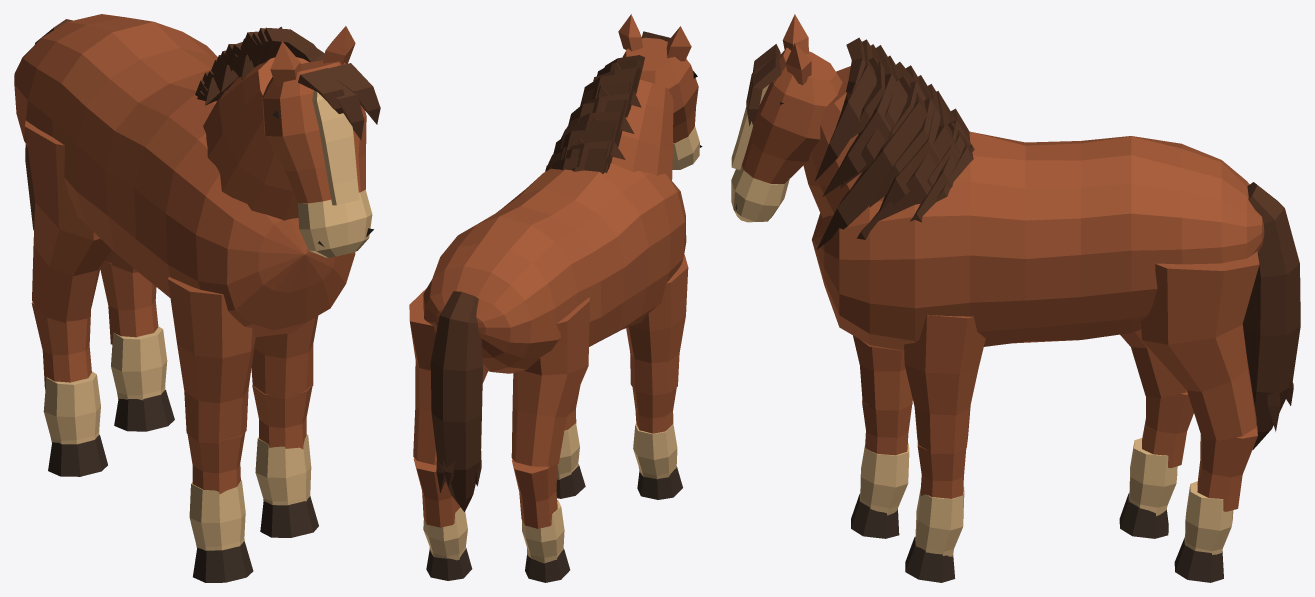
Rendered from horse-idle.glb.
3 renders of one model, left to right at view 1: azimuth 30°, elevation 25°; view 2: azimuth 150°, elevation 25°; view 3: azimuth 270°, elevation 25°, orthographic. The views are drawn at different scales.
Visible parts, largest first — view 1: body, leg_fr_upper, leg_hr_upper, neck, head, leg_fl_upper, mane, muzzle, leg_hr_sock, leg_hl_sock, leg_hl_lower, leg_fr_sock (+13 smaller); view 2: body, tail, leg_hr_upper, mane, leg_fr_upper, neck, head, leg_hl_upper, leg_hr_lower, leg_fr_sock, leg_hl_lower, leg_hr_sock (+10 smaller); view 3: body, mane, leg_hl_upper, tail, leg_fl_upper, head, leg_hl_lower, leg_fr_upper, neck, leg_hr_lower, leg_fr_sock, leg_fl_sock (+12 smaller).
Boxes of the visible parts, box(x1,y1,x2,y2) form: body: box(14, 14, 355, 337); leg_fr_upper: box(167, 277, 255, 443); leg_hr_upper: box(24, 120, 111, 322); neck: box(203, 57, 309, 220); head: box(262, 60, 366, 203); leg_fl_upper: box(251, 316, 318, 399); mane: box(195, 26, 341, 256); muzzle: box(298, 190, 372, 257); leg_hr_sock: box(43, 371, 100, 444); leg_hl_sock: box(111, 326, 167, 400); leg_hl_lower: box(100, 261, 158, 344); leg_fr_sock: box(189, 480, 245, 550); body: box(423, 163, 686, 373); tail: box(430, 291, 482, 511); leg_hr_upper: box(511, 297, 589, 466); mane: box(545, 55, 644, 173); leg_fr_upper: box(626, 254, 688, 395); neck: box(611, 79, 673, 182); head: box(622, 37, 698, 143); leg_hl_upper: box(409, 288, 487, 464); leg_hr_lower: box(512, 459, 557, 528); leg_fr_sock: box(633, 424, 677, 479); leg_hl_lower: box(413, 458, 460, 527); leg_hr_sock: box(522, 500, 564, 563); body: box(812, 131, 1264, 350); mane: box(814, 37, 974, 277); leg_hl_upper: box(1140, 251, 1259, 441); tail: box(1242, 182, 1300, 449); leg_fl_upper: box(904, 315, 985, 453); head: box(742, 47, 842, 183); leg_hl_lower: box(1197, 426, 1257, 511); leg_fr_upper: box(853, 335, 912, 410); neck: box(803, 66, 884, 218); leg_hr_lower: box(1142, 392, 1193, 467); leg_fr_sock: box(860, 443, 909, 515); leg_fl_sock: box(915, 487, 964, 556).
Size of the model in its own units: 0.7015 by 2.14 by 2.11.
